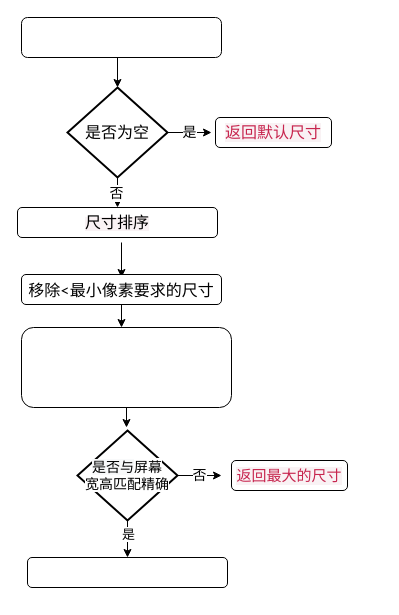
The diagram is 399 pixels wide and 615 high, and some of its shapes have lost their labels. The box of each missing label's shape, as (x1, y1, x2, y2) in pixels:
剔除预览宽高比与屏幕分辨率宽高比之差的绝对值大于0.15的所有尺寸: (20, 326, 232, 408)
查找手机支持的预览尺寸: (20, 16, 222, 58)
返回匹配的尺寸: (26, 556, 228, 588)
